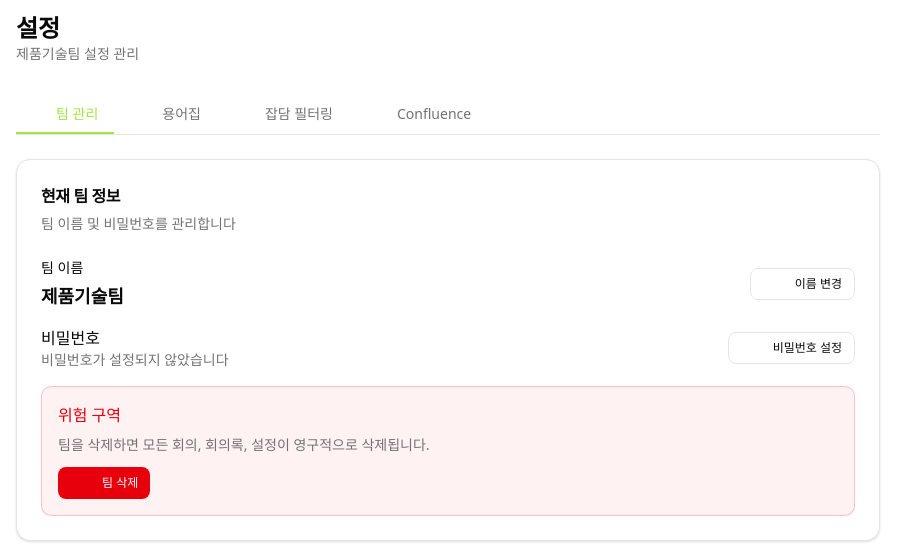
SettingsPage › Rendering › shows empty message when no vocabulary
The width and height of the screenshot is (897, 559).
Step 1. Click the button "용어집" → point(170, 115), box [122,96,217,134]
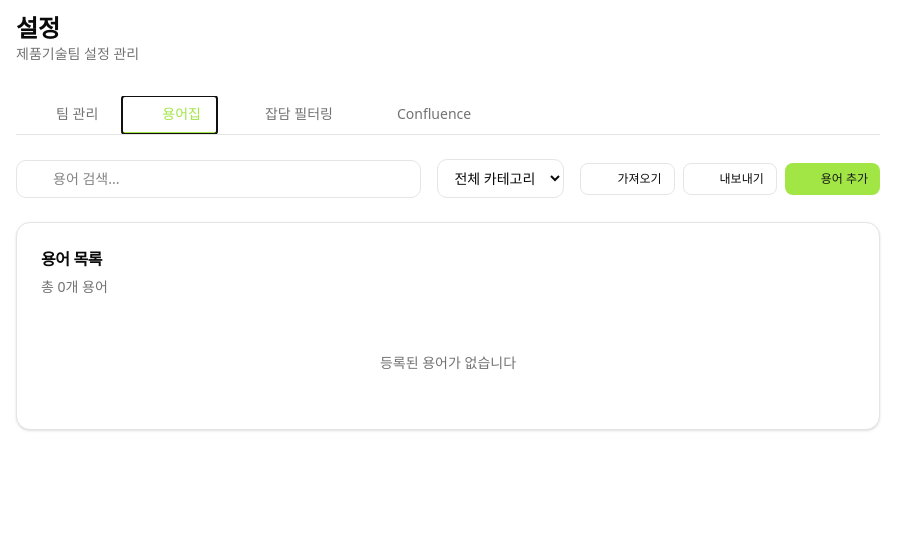
Result: the text "등록된 용어가 없습니다" is shown at [380,353,516,372]
